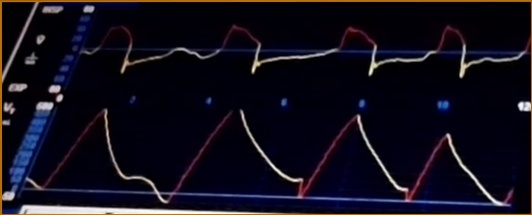Ineffective_effort Flow: (82, 15, 528, 79)
Ineffective_effort Volume: (26, 107, 513, 207)
